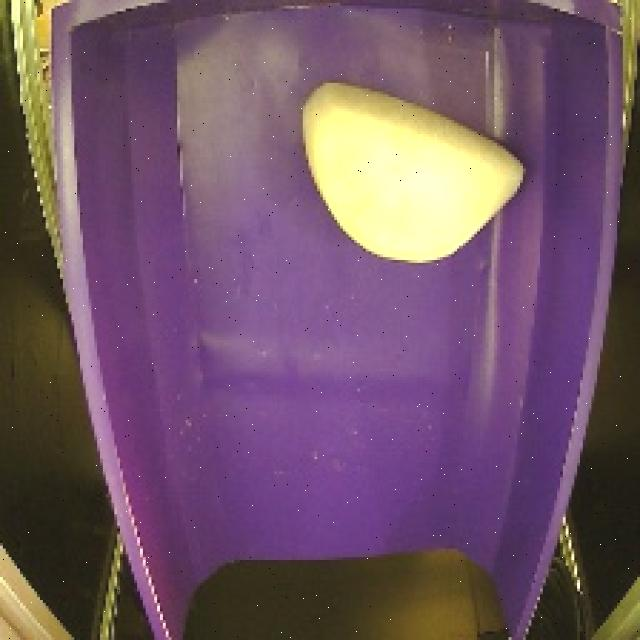white_radish: (288, 73, 539, 278)
